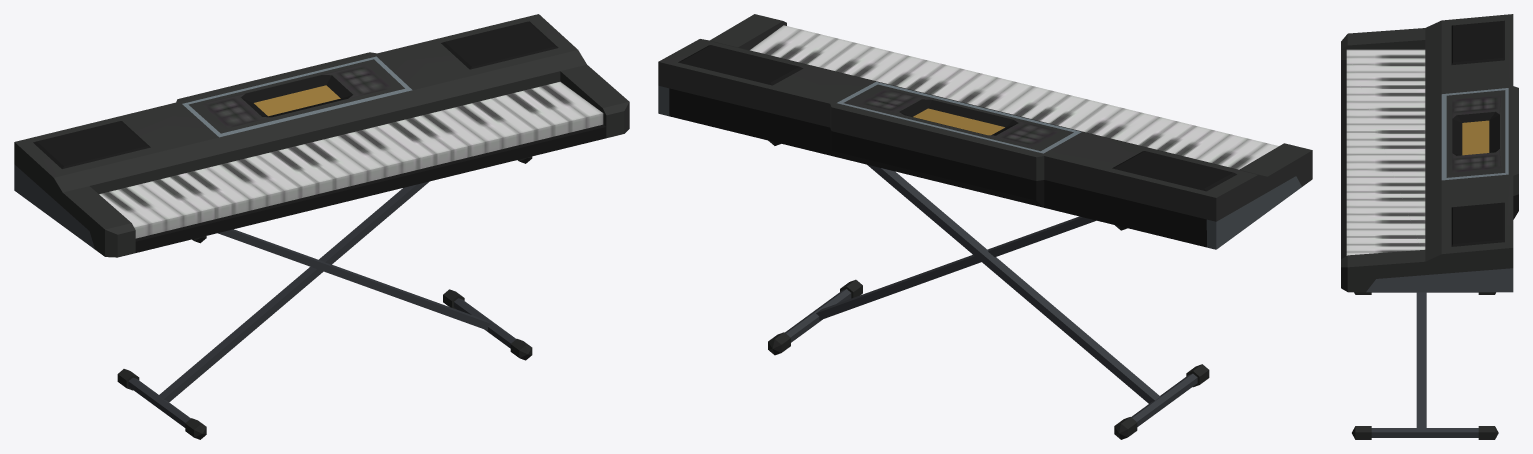
File: SM_Prop_Music_KeyBoard_01.obj
3 renders of one model, left to right at view 1: azimuth 30°, elevation 25°; view 2: azimuth 150°, elevation 25°; view 3: azimuth 270°, elevation 25°, orthographic. The views are drawn at different scales.
Parts seen in each view (by area): view 1: SM_Prop_Music_KeyBoard_01_0; view 2: SM_Prop_Music_KeyBoard_01_0; view 3: SM_Prop_Music_KeyBoard_01_0.
Part boxes in pixels (x1,y1,x2,y2): SM_Prop_Music_KeyBoard_01_0: (14,14,629,439); SM_Prop_Music_KeyBoard_01_0: (658,14,1312,439); SM_Prop_Music_KeyBoard_01_0: (1341,14,1518,439).
Size of the model in its own units: 1.96 by 0.9286 by 0.6316.
Materials: 1 (1 with a texture image).
